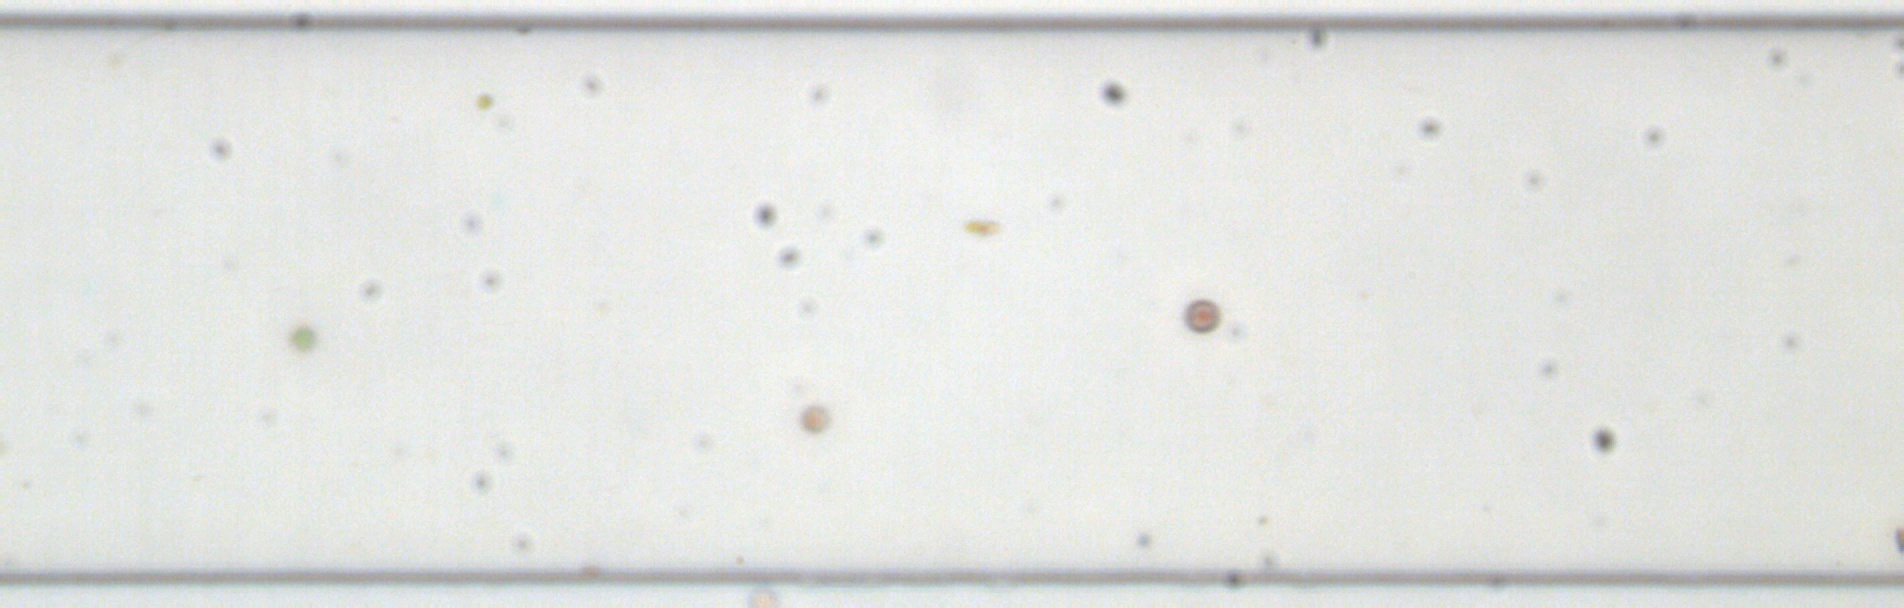Chlorella: (288, 323, 318, 352), (474, 90, 494, 112)
Dunaliella salina: (960, 215, 1003, 238)
Porphyridium: (1180, 296, 1222, 335), (797, 402, 831, 436)
